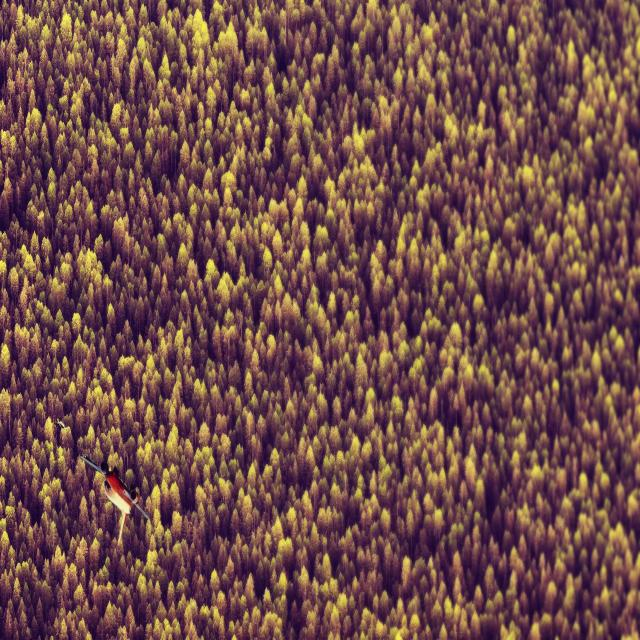airplane: (78, 454, 150, 546)
